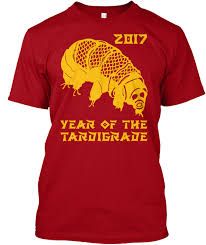T-Shirt: (7, 1, 205, 245)
